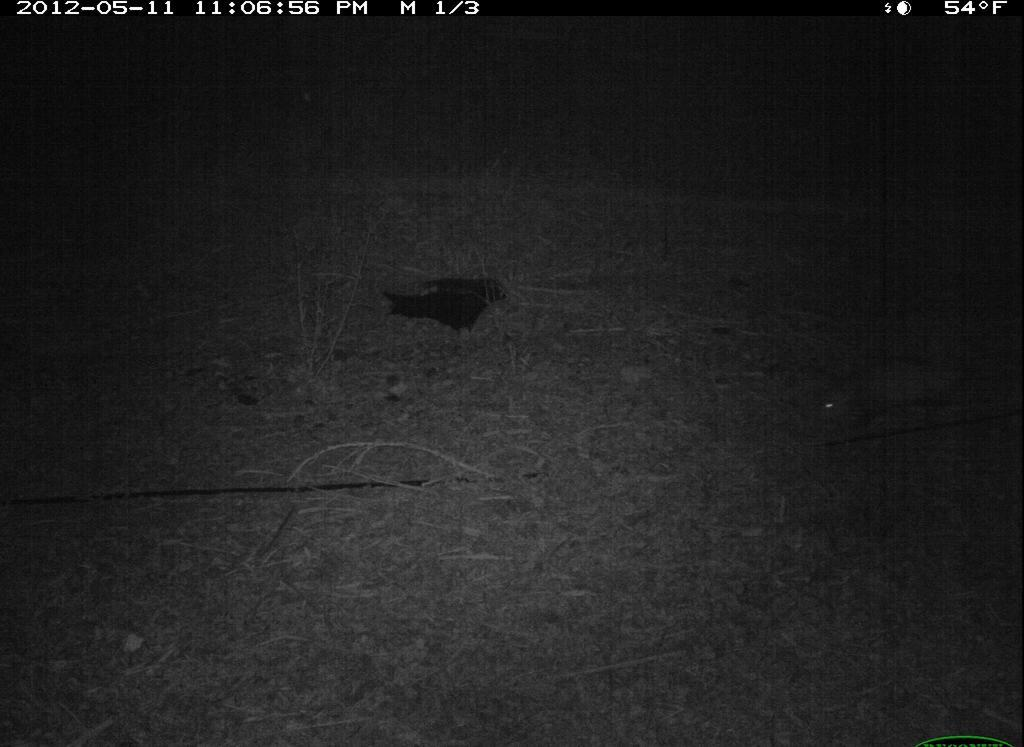opossum: (784, 331, 975, 472)
